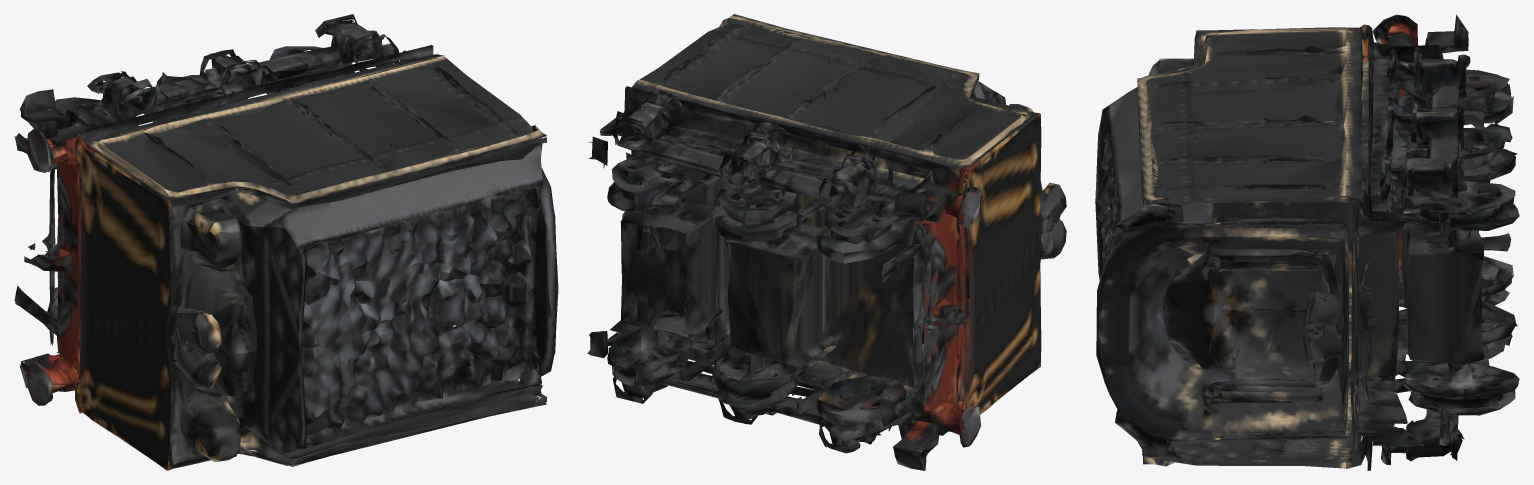
File: black_five_tender_r050.glb
3 renders of one model, left to right at view 1: azimuth 30°, elevation 25°; view 2: azimuth 150°, elevation 25°; view 3: azimuth 270°, elevation 25°, orthographic. The views are drawn at different scales.
Visible parts, largest first — view 1: part_tender.001; view 2: part_tender.001; view 3: part_tender.001.
Part boxes in pixels (x1,y1,x2,y2): part_tender.001: (14, 14, 558, 470); part_tender.001: (587, 14, 1066, 470); part_tender.001: (1095, 14, 1519, 470).
Size of the model in its own units: 3.72 by 2.86 by 3.62.
1 material, 1 textured.
